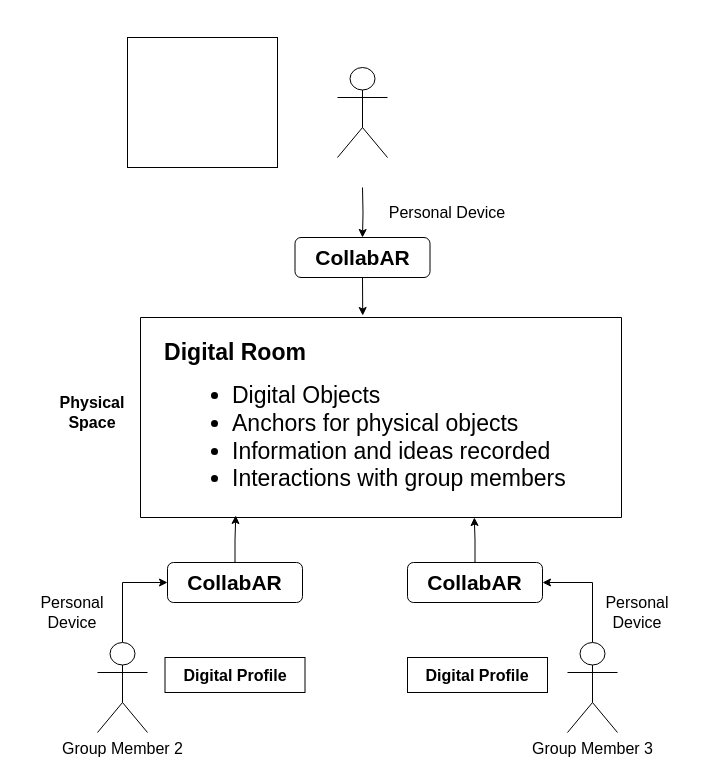
The diagram is 704 pixels wide and 784 high, and some of its shapes have lost their labels. Here are the shapes that lost their labels. From the top down, the box of each, then its label:
(126, 36, 278, 168): Digital Profile: Name Role Current Task Status
(336, 66, 388, 158): Group Member 1
